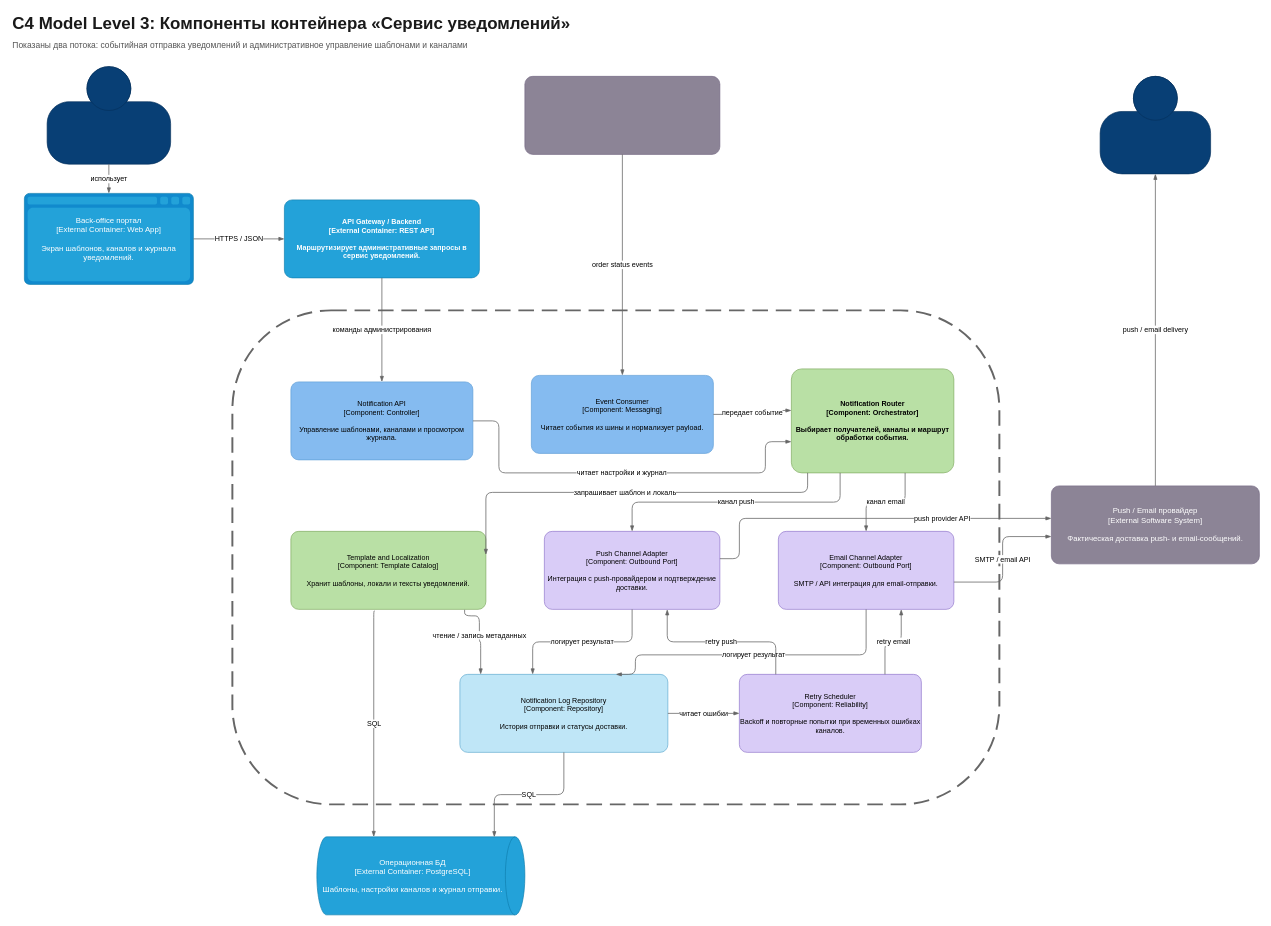
This 1271x926 diagram has some shape labels left out. The box of each missing label's shape, as (x1, y1, x2, y2) in pixels:
Администратор системы [Person]: (46, 66, 171, 164)
Клиент [Person]: (1099, 76, 1211, 174)
Сервис уведомлений [Container]: (231, 309, 1000, 805)
Шина событий [External Container: Message Bus] События смены статуса заказа.: (524, 76, 720, 154)
